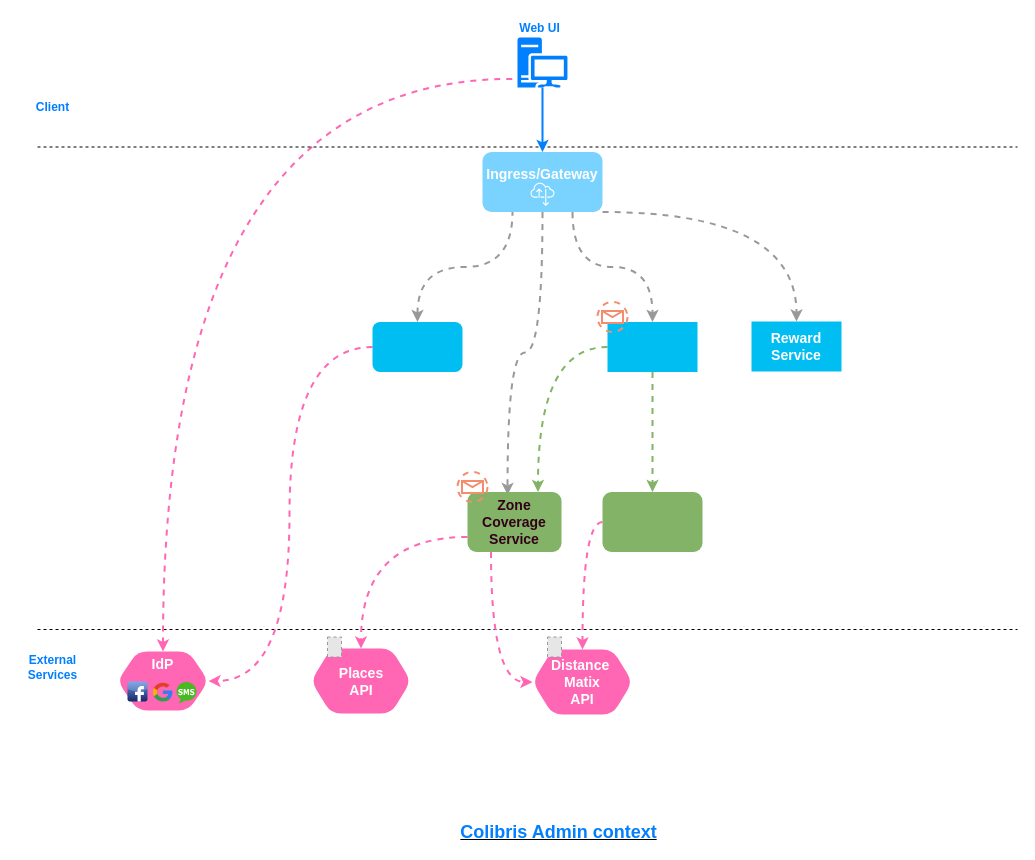
Some shapes in this 1035 by 860 pixel diagram are drawn without their labels. Grey dashed boxes stand in for pictures. The shapes that lost their labels are listed below. From the top down, each one's box as (x1, y1, x2, y2) in pixels, then its label:
(372, 322, 462, 372): User Service
(607, 322, 697, 372): Scheduling Service
(602, 492, 702, 552): Pick-up Sorting Job
